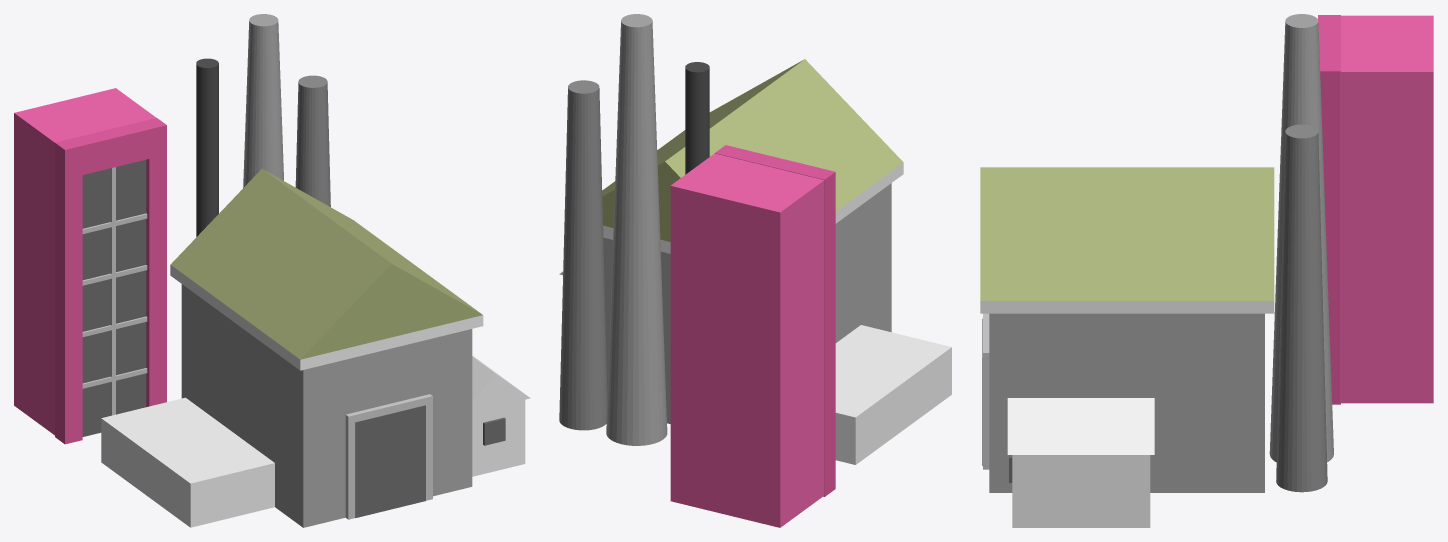
File: Fabrica.glb
The picture shows the model from 3 angles, left to right: view 1: azimuth 30°, elevation 25°; view 2: azimuth 150°, elevation 25°; view 3: azimuth 270°, elevation 25°; orthographic projection. The views are drawn at different scales.
Parts seen in each view (by area): view 1: MainBuilding, MainBuildingRoof, Cubo, LeftExtension, PinkArchWindowPane, PinkArchLeftCol, DoorPanel, PinkArchRightCol, ChimneyMiddle, ChimneyRight, ChimneyLeft, MainBuildingTrim (+5 smaller); view 2: Cubo, ChimneyMiddle, MainBuildingRoof, ChimneyRight, LeftExtension, MainBuilding, PinkArchLeftCol, ChimneyLeft, PinkArchTopBeam, MainBuildingTrim; view 3: MainBuildingRoof, Cubo, MainBuilding, ChimneyRight, RightExtension, RightExtensionRoof, ChimneyMiddle, PinkArchRightCol, MainBuildingTrim, PinkArchTopBeam, DoorFrame.
Part boxes in pixels (x1,y1,x2,y2): MainBuilding: [181, 284, 472, 527]; MainBuildingRoof: [170, 169, 482, 359]; Cubo: [14, 88, 155, 435]; LeftExtension: [101, 397, 274, 527]; PinkArchWindowPane: [82, 160, 146, 436]; PinkArchLeftCol: [55, 139, 82, 444]; DoorPanel: [355, 405, 425, 517]; PinkArchRightCol: [146, 123, 166, 406]; ChimneyMiddle: [243, 14, 283, 187]; ChimneyRight: [295, 75, 330, 206]; ChimneyLeft: [196, 58, 218, 236]; MainBuildingTrim: [170, 265, 483, 370]; Cubo: [670, 153, 824, 527]; ChimneyMiddle: [606, 14, 667, 445]; MainBuildingRoof: [602, 59, 903, 241]; ChimneyRight: [559, 80, 607, 430]; LeftExtension: [835, 325, 951, 464]; MainBuilding: [603, 183, 891, 423]; PinkArchLeftCol: [806, 167, 835, 496]; ChimneyLeft: [685, 62, 709, 174]; PinkArchTopBeam: [715, 147, 835, 204]; MainBuildingTrim: [603, 162, 903, 253]; MainBuildingRoof: [980, 167, 1274, 300]; Cubo: [1340, 15, 1433, 403]; MainBuilding: [989, 313, 1264, 492]; ChimneyRight: [1276, 124, 1327, 492]; RightExtension: [1012, 455, 1150, 527]; RightExtensionRoof: [1007, 398, 1154, 454]; ChimneyMiddle: [1269, 14, 1333, 462]; PinkArchRightCol: [1320, 61, 1340, 404]; MainBuildingTrim: [980, 301, 1274, 313]; PinkArchTopBeam: [1318, 15, 1340, 104]; DoorFrame: [983, 313, 989, 469].
Size of the model in its own units: 4.68 by 5.2 by 4.94.
